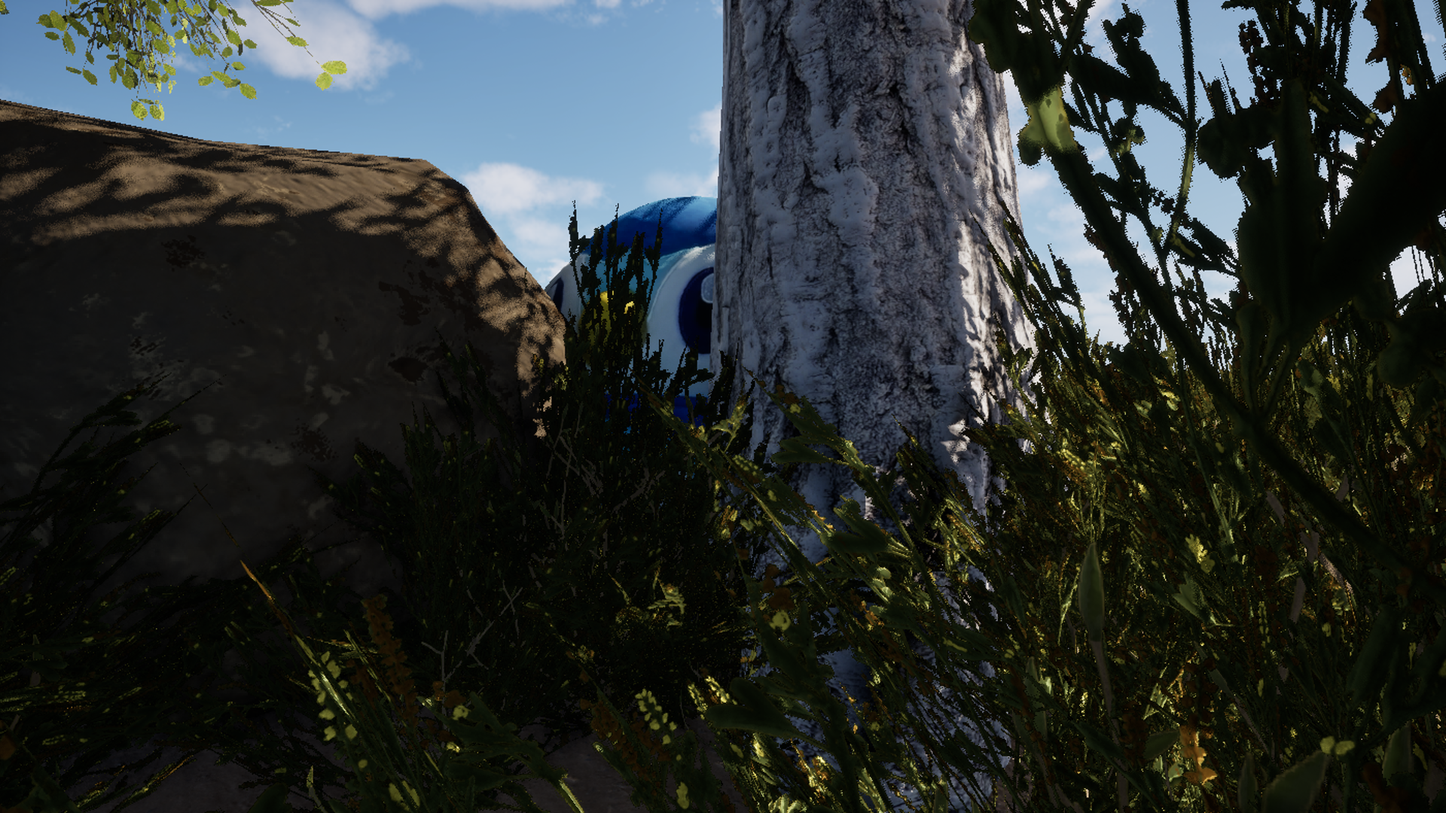Piplup: (385, 28, 1183, 785)
